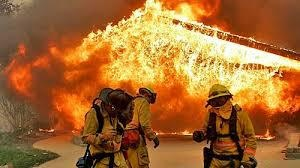fire: (31, 0, 283, 147)
